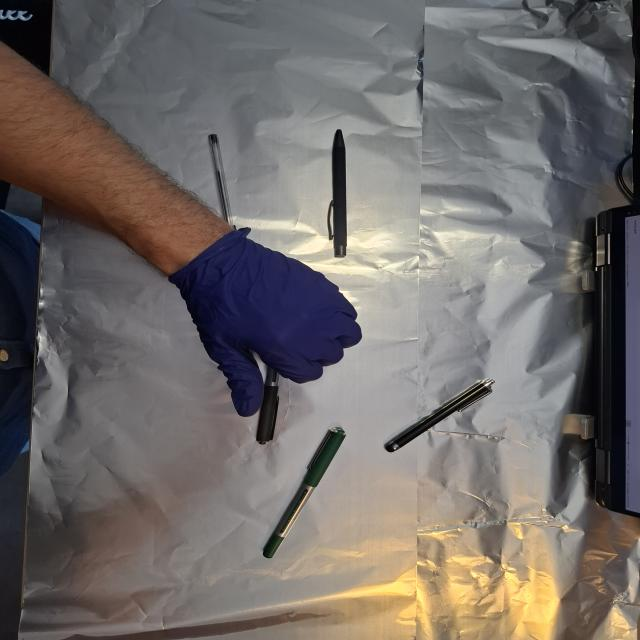glove_on: (170, 230, 366, 419)
